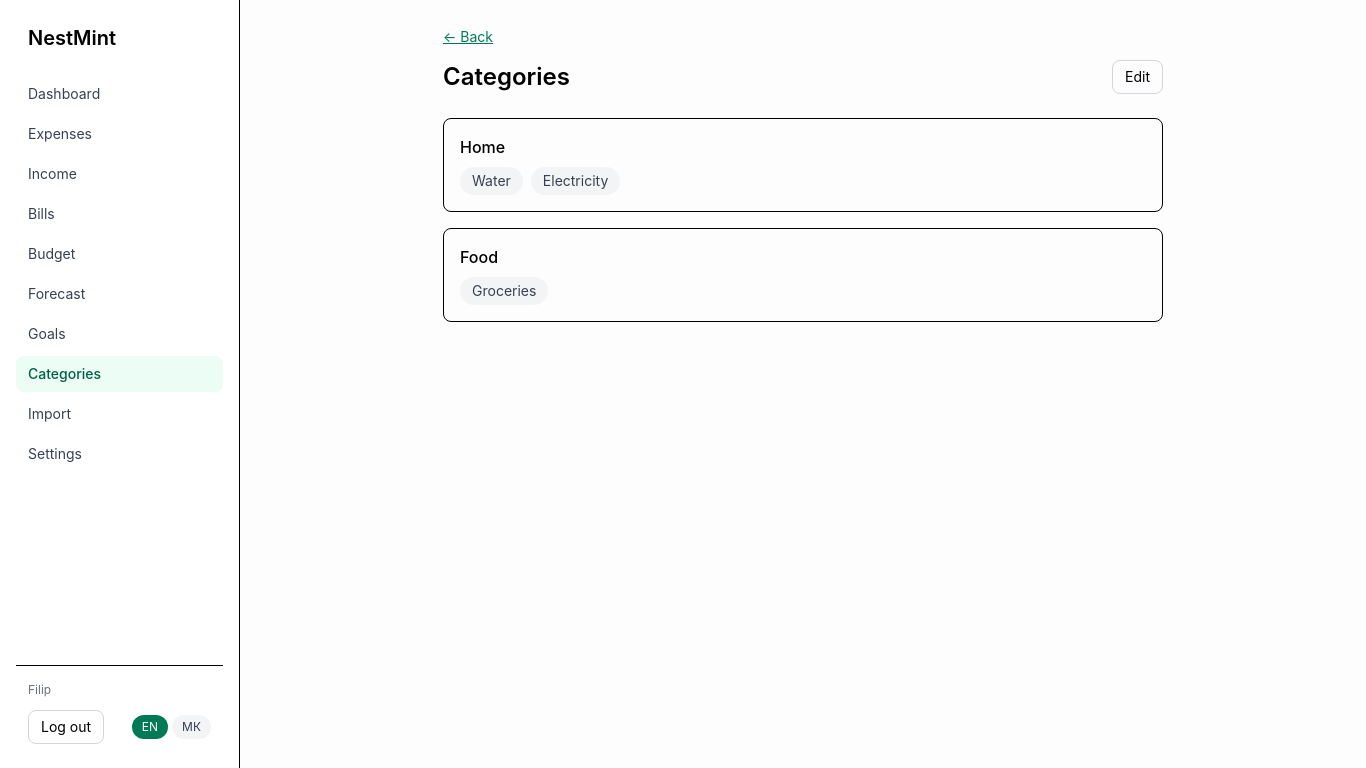
editing categories › shows the plain list until you press Edit, and Done goes back
Later steps or results of the test are not shown.
Expected: the heading "Home" is shown, [460,137,505,157]
Click the button "Edit": click(1138, 77) [1112,60,1163,94]
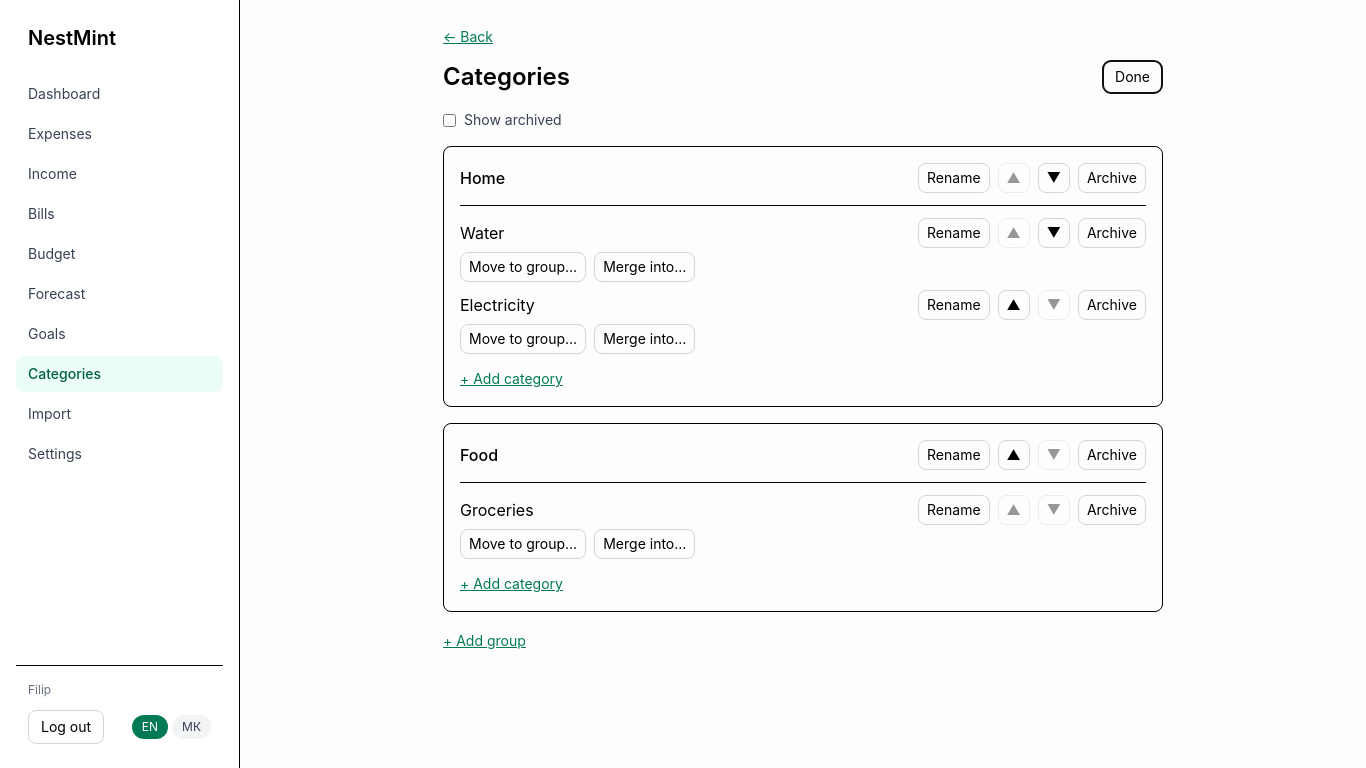
Result: the button with aria-label "Rename Home" is shown at [918,163,990,193]
